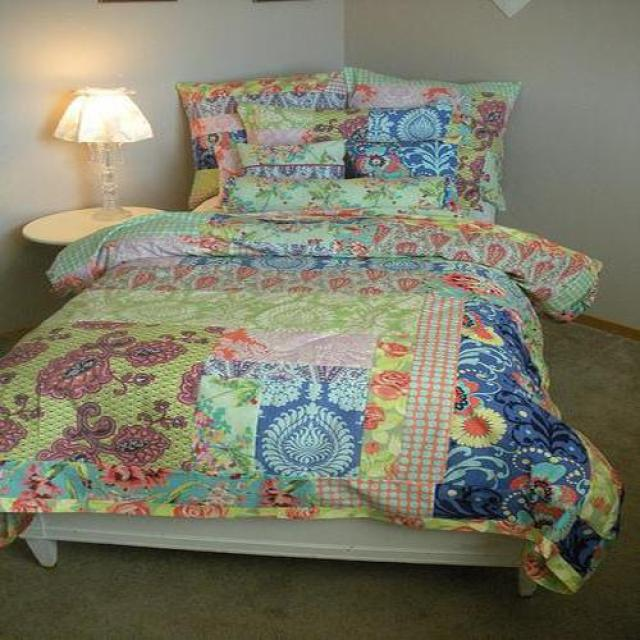bed: (0, 68, 625, 599)
